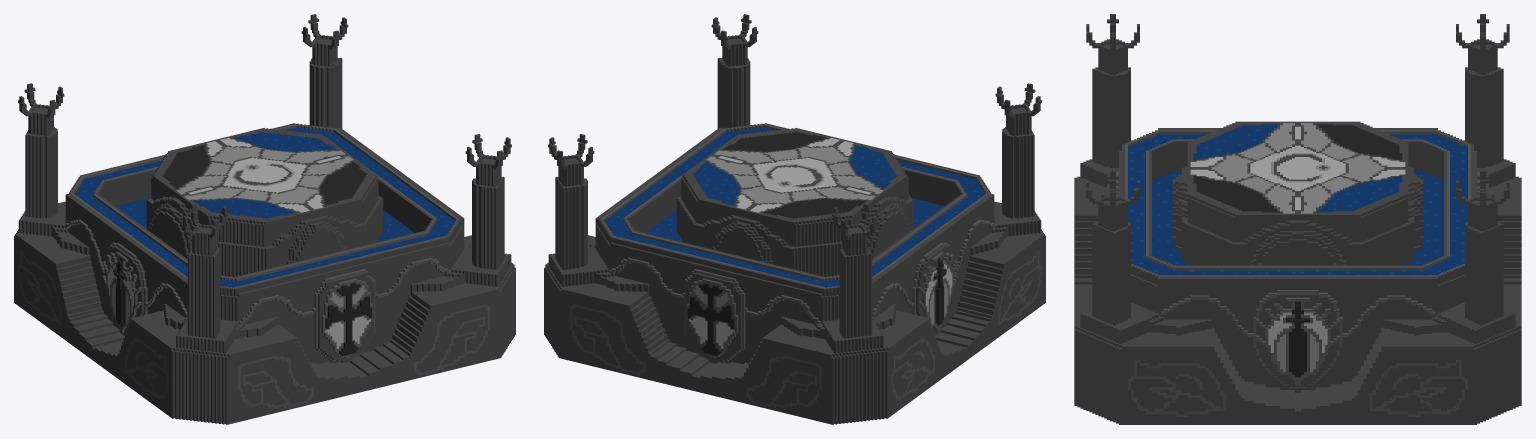
Rendered from алтарь для босса(две синии руны ).obj.
3 views of the same model, side by side, from view 1: azimuth 30°, elevation 25°; view 2: azimuth 150°, elevation 25°; view 3: azimuth 270°, elevation 25° (orthographic). The views are drawn at different scales.
Size of the model in its own units: 15 by 8.4 by 15.
Materials: 1 (1 with a texture image).
